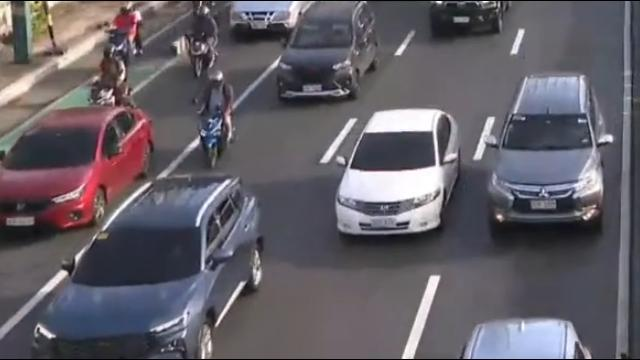car: (28, 177, 265, 360), (480, 72, 617, 239), (0, 104, 153, 234), (332, 106, 457, 239), (279, 0, 378, 101), (458, 318, 594, 360)
motorcycle: (194, 70, 235, 168), (86, 45, 130, 118), (183, 6, 219, 79), (106, 2, 143, 65)
